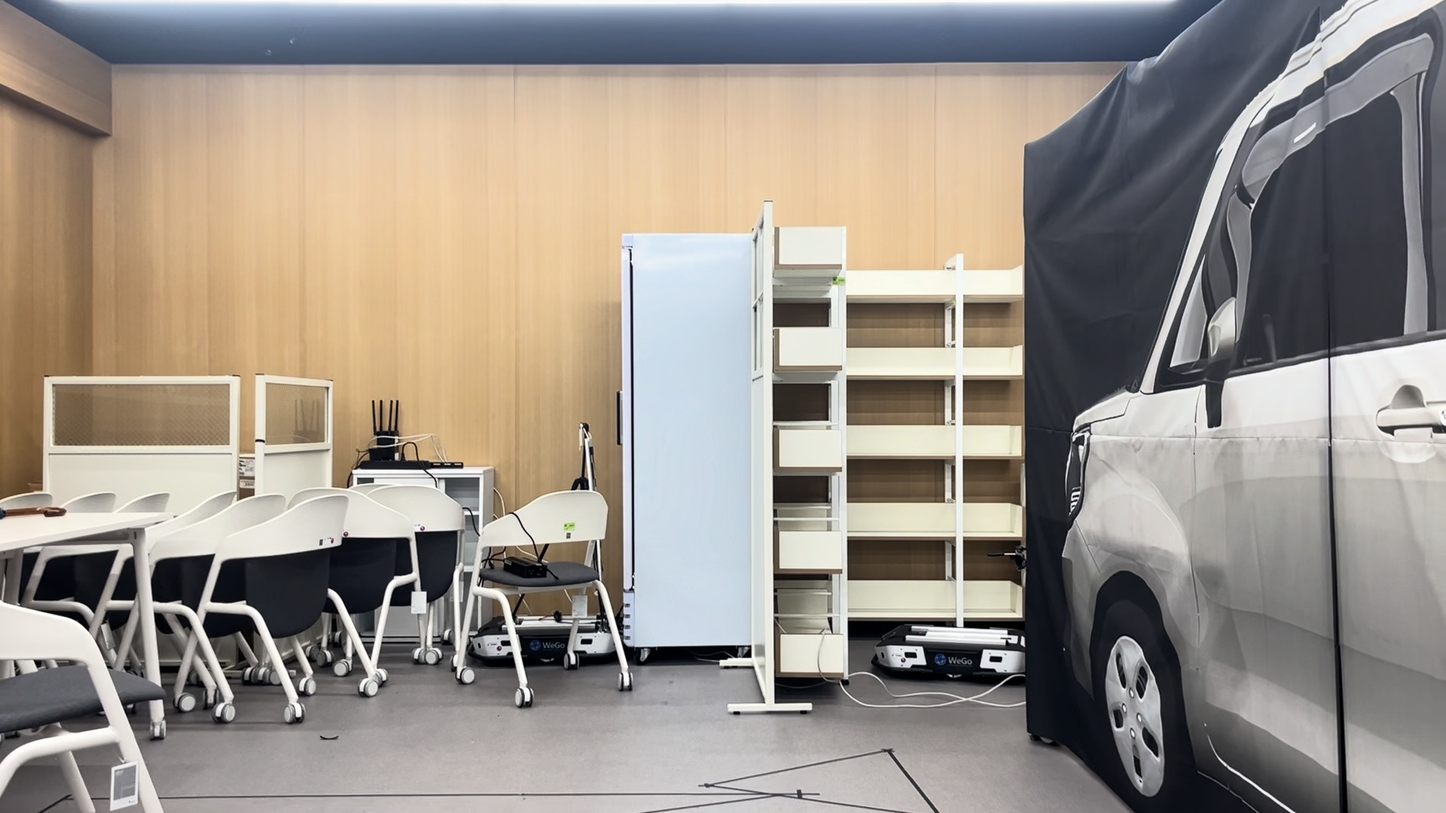door_handle: (1377, 385, 1445, 434)
side_mirror: (1205, 297, 1237, 427)
